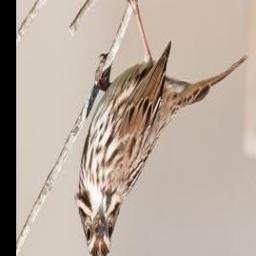Sparrow: (72, 0, 250, 256)
